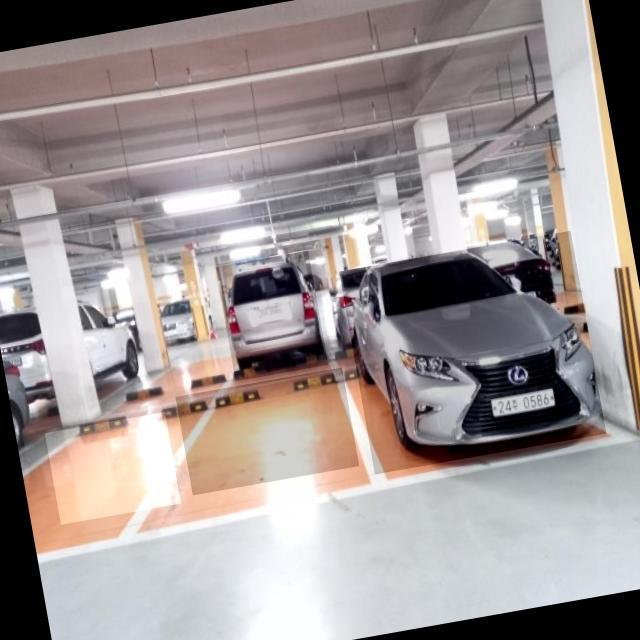empty: (175, 367, 359, 495), (44, 412, 180, 524)
occupied: (339, 230, 606, 474), (215, 250, 328, 382)
